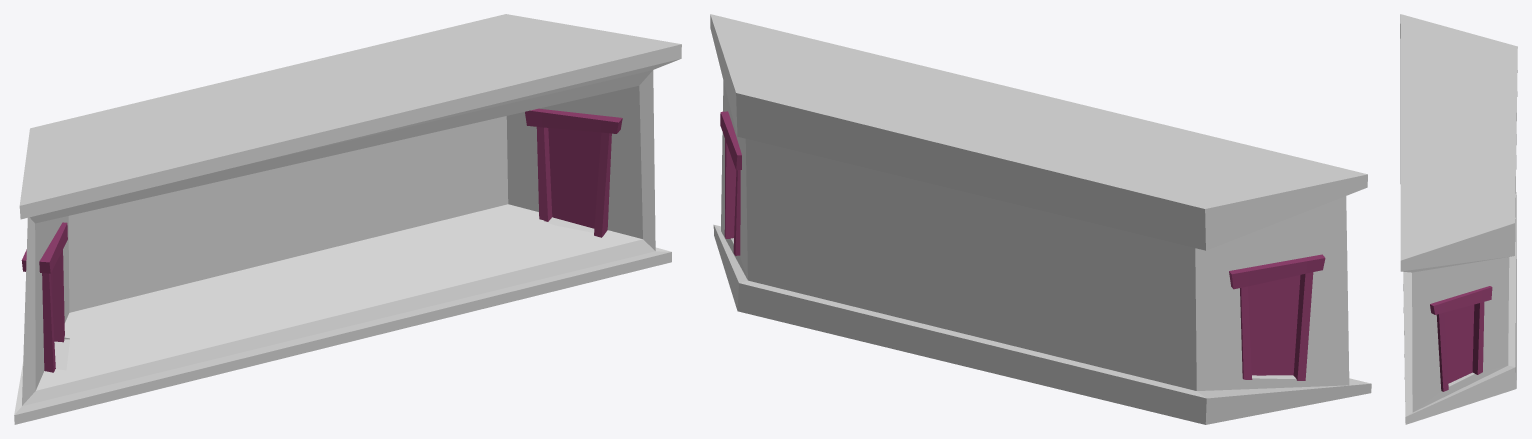
The model's file is Stage01.fbx.
The picture shows the model from 3 angles, left to right: view 1: azimuth 30°, elevation 25°; view 2: azimuth 150°, elevation 25°; view 3: azimuth 270°, elevation 25°; orthographic projection. The views are drawn at different scales.
Visible parts, largest first — view 1: Door_frame, door.001; view 2: Door_frame, door; view 3: Door_frame, door.001.
Part boxes in pixels (x1,y1,x2,y2): Door_frame: (14, 14, 681, 424); door.001: (548, 128, 601, 228); Door_frame: (710, 14, 1371, 424); door: (1248, 275, 1300, 375); Door_frame: (1400, 14, 1517, 424); door.001: (1444, 304, 1474, 383).
Size of the model in its own units: 942 by 295 by 189.
